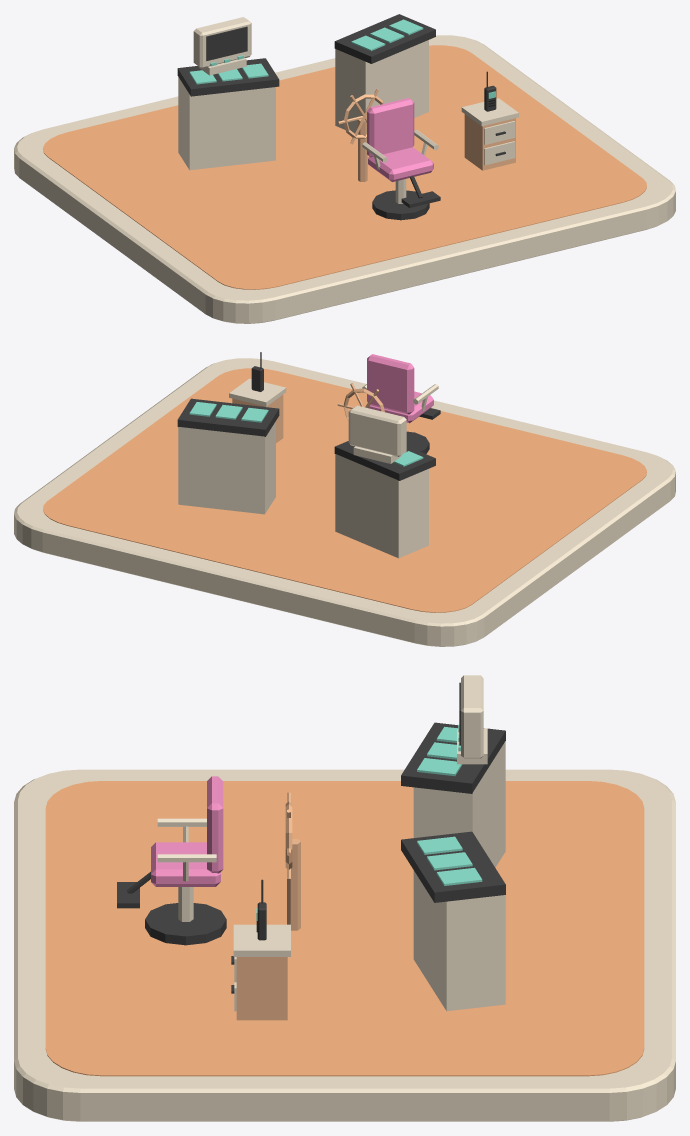
Rendered from room.fbx.
3 views of the same model, one above another, from view 1: azimuth 30°, elevation 25°; view 2: azimuth 150°, elevation 25°; view 3: azimuth 270°, elevation 25° (orthographic). The views are drawn at different scales.
Visible parts, largest first — view 1: COM-02 Floor Surface, COM-01 Rounded Base Direct, Console, Console.001, Back, Panel.001, Panel, Seat, Housing, Body, Base, Readout.006 (+4 smaller); view 2: COM-02 Floor Surface, COM-01 Rounded Base Direct, Console.001, Console, Housing, Back, Panel.001, Panel, Top, Seat, Body; view 3: COM-02 Floor Surface, COM-01 Rounded Base Direct, Console.001, Console, Panel.001, Body, Panel, Base, Seat, Housing, Top, Back (+1 smaller).
Part boxes in pixels (bbox=[...]): COM-02 Floor Surface: bbox=[43, 45, 646, 289]; COM-01 Rounded Base Direct: bbox=[14, 35, 675, 323]; Console: bbox=[178, 77, 275, 170]; Console.001: bbox=[335, 40, 428, 133]; Back: bbox=[367, 98, 414, 157]; Panel.001: bbox=[334, 14, 435, 63]; Panel: bbox=[177, 58, 279, 96]; Seat: bbox=[368, 147, 433, 181]; Housing: bbox=[193, 17, 251, 68]; Body: bbox=[464, 114, 515, 170]; Base: bbox=[372, 190, 429, 220]; Readout.006: bbox=[206, 26, 247, 60]; COM-02 Floor Surface: bbox=[43, 368, 646, 612]; COM-01 Rounded Base Direct: bbox=[14, 358, 675, 646]; Console.001: bbox=[178, 421, 275, 514]; Console: bbox=[335, 454, 428, 558]; Housing: bbox=[348, 405, 406, 456]; Back: bbox=[367, 354, 414, 414]; Panel.001: bbox=[177, 398, 279, 436]; Panel: bbox=[334, 441, 435, 480]; Top: bbox=[229, 378, 286, 406]; Seat: bbox=[368, 391, 433, 423]; Body: bbox=[232, 395, 283, 442]; COM-02 Floor Surface: bbox=[45, 781, 644, 1076]; COM-01 Rounded Base Direct: bbox=[14, 769, 675, 1121]; Console.001: bbox=[413, 870, 505, 1011]; Console: bbox=[413, 741, 505, 867]; Panel.001: bbox=[401, 831, 505, 902]; Body: bbox=[236, 957, 287, 1020]; Panel: bbox=[401, 722, 505, 793]; Base: bbox=[145, 903, 226, 945]; Seat: bbox=[151, 842, 220, 886]; Housing: bbox=[461, 675, 483, 758]; Top: bbox=[233, 924, 290, 956]; Back: bbox=[207, 776, 223, 873].
Bounding box in the file's own units: 600 × 188 × 520.
